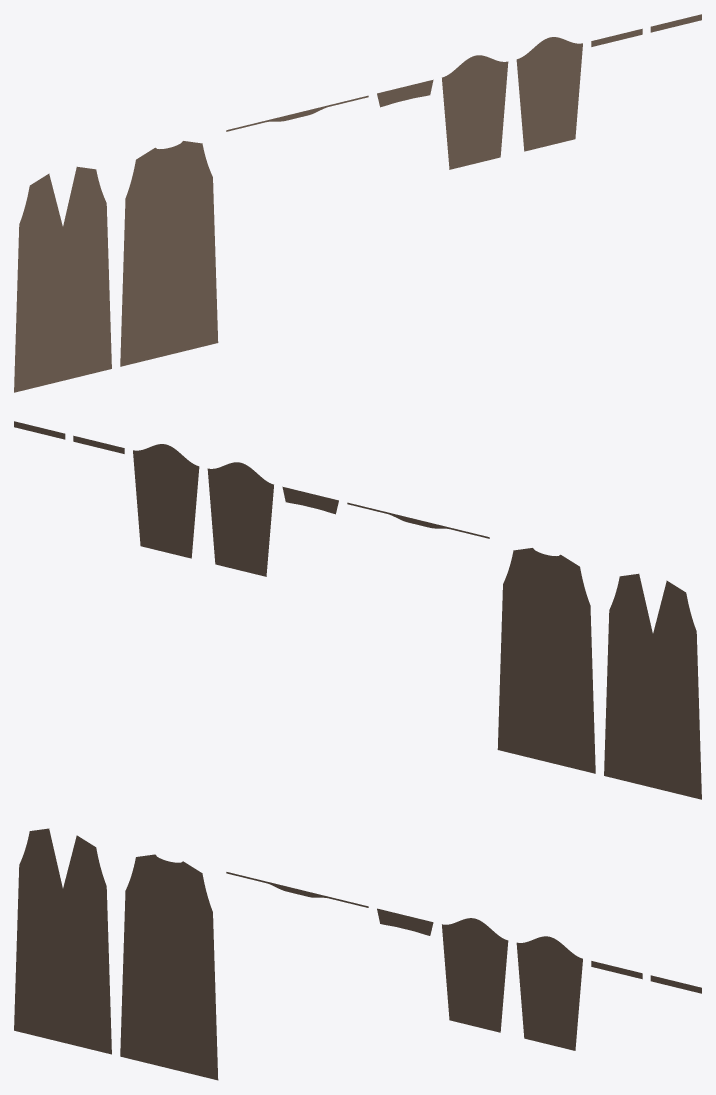
The model's file is abrigo-lana-cruzado-talla-XS.glb.
3 renders of one model, top to bottom at view 1: azimuth 30°, elevation 25°; view 2: azimuth 150°, elevation 25°; view 3: azimuth 330°, elevation 25°, orthographic.
Visible parts, largest first — view 1: patron-espalda, patron-delantero, patron-manga-izq, patron-manga-der, patron-cuello-hoja; view 2: patron-espalda, patron-delantero, patron-manga-izq, patron-manga-der, patron-cuello-hoja; view 3: patron-espalda, patron-delantero, patron-manga-izq, patron-manga-der, patron-cuello-hoja, patron-cuello-pie.
Part boxes in pixels (x1=…): patron-espalda: x1=120, y1=141, x2=218, y2=366; patron-delantero: x1=14, y1=166, x2=111, y2=392; patron-manga-izq: x1=442, y1=55, x2=508, y2=169; patron-manga-der: x1=516, y1=37, x2=582, y2=151; patron-cuello-hoja: x1=377, y1=79, x2=433, y2=107; patron-espalda: x1=497, y1=548, x2=595, y2=773; patron-delantero: x1=604, y1=573, x2=701, y2=799; patron-manga-izq: x1=207, y1=462, x2=273, y2=576; patron-manga-der: x1=133, y1=444, x2=199, y2=558; patron-cuello-hoja: x1=282, y1=486, x2=338, y2=514; patron-espalda: x1=120, y1=854, x2=218, y2=1080; patron-delantero: x1=14, y1=828, x2=111, y2=1054; patron-manga-izq: x1=442, y1=918, x2=508, y2=1032; patron-manga-der: x1=516, y1=936, x2=582, y2=1050; patron-cuello-hoja: x1=377, y1=908, x2=433, y2=935; patron-cuello-pie: x1=226, y1=872, x2=368, y2=907.
Size of the model in its own units: 4.17 by 1.3 by 0.
